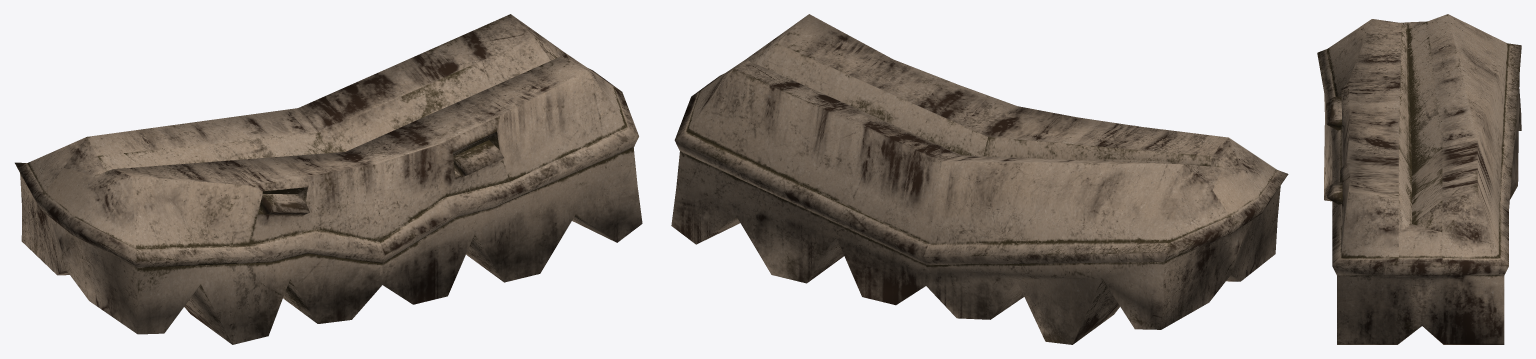
File: Egg_Carton.dae
The picture shows the model from 3 angles, left to right: view 1: azimuth 30°, elevation 25°; view 2: azimuth 150°, elevation 25°; view 3: azimuth 270°, elevation 25°; orthographic projection. The views are drawn at different scales.
Parts seen in each view (by area): view 1: Egg_Carton_GEO; view 2: Egg_Carton_GEO; view 3: Egg_Carton_GEO.
Part boxes in pixels (x1,y1,x2,y2): Egg_Carton_GEO: [15, 14, 642, 344]; Egg_Carton_GEO: [671, 14, 1288, 344]; Egg_Carton_GEO: [1317, 14, 1521, 344].
Bounding box in the file's own units: 0.2592 × 0.0991 × 0.0824.
1 material, 1 textured.
